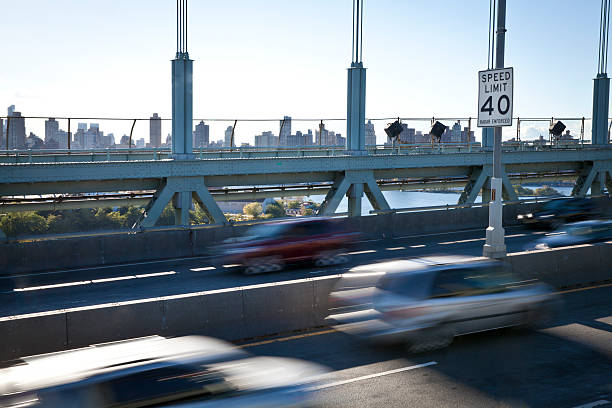SpeedLimitSign: (476, 67, 514, 127)
